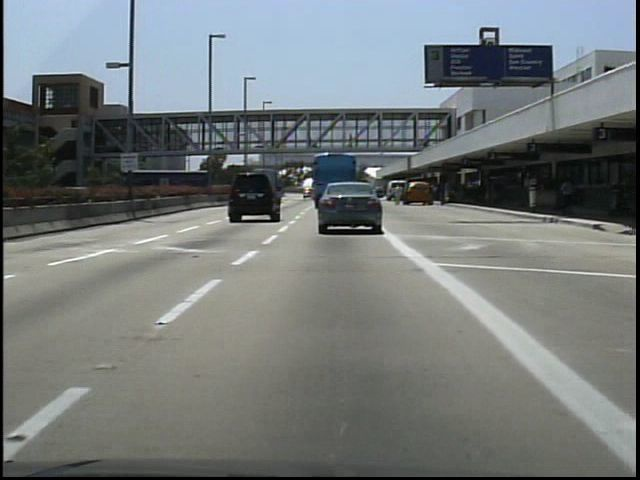person: (558, 173, 578, 217), (424, 179, 441, 210), (391, 180, 408, 209), (345, 132, 358, 153), (304, 130, 317, 150)
